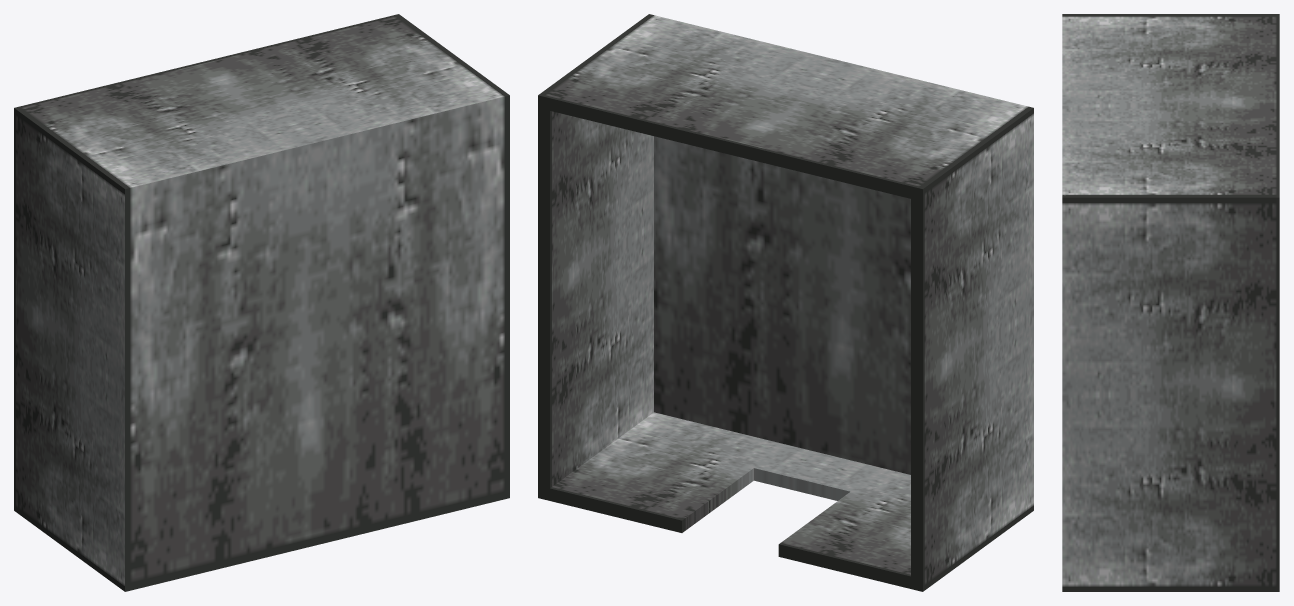
Rendered from basicbuidling1d0wA_wtf.obj.
3 renders of one model, left to right at view 1: azimuth 30°, elevation 25°; view 2: azimuth 150°, elevation 25°; view 3: azimuth 270°, elevation 25°, orthographic. The views are drawn at different scales.
Visible parts, largest first — view 1: group3; view 2: group3; view 3: group3.
Part boxes in pixels (x1,y1,x2,y2): group3: [14, 14, 509, 591]; group3: [538, 14, 1033, 591]; group3: [1062, 14, 1279, 591].
Size of the model in its own units: 660 by 660 by 330.
